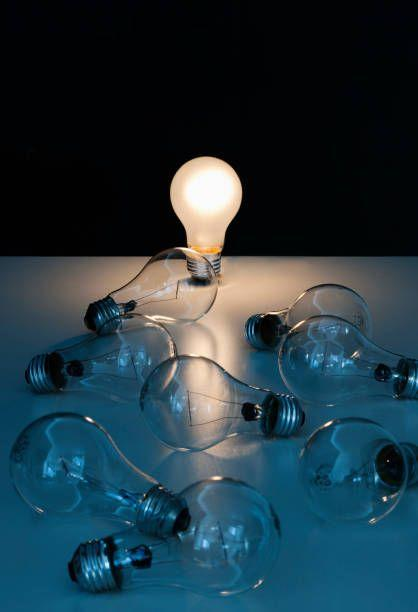light bulb: (67, 476, 283, 601), (8, 414, 195, 545), (138, 352, 306, 455), (27, 312, 179, 414), (293, 415, 418, 533), (277, 312, 418, 405), (83, 246, 216, 335), (169, 154, 244, 287), (242, 282, 376, 353)
